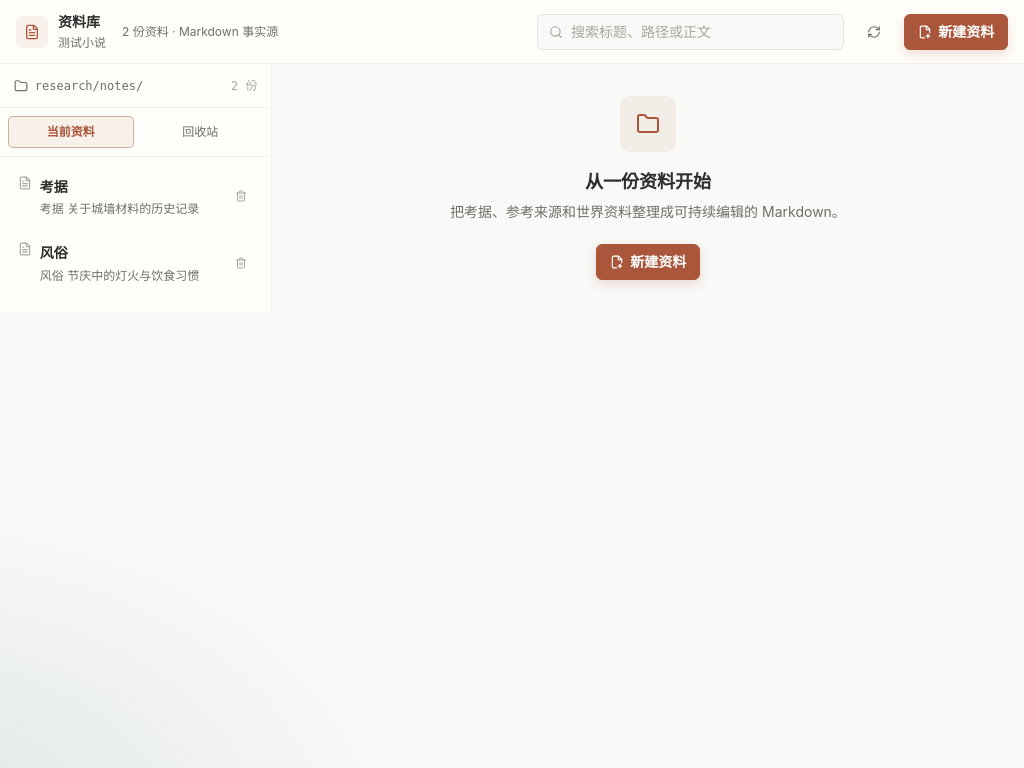
Scenario: ResearchLibrary › 搜索会匹配 Markdown 正文内容
Expected: the button "考据 考据 关于城墙材料的历史记录" is shown, [18, 174, 220, 219]
Type "城墙材料" into the field with placeholder "搜索标题、路径或正文". click: (701, 32)
box: [571, 21, 832, 42]
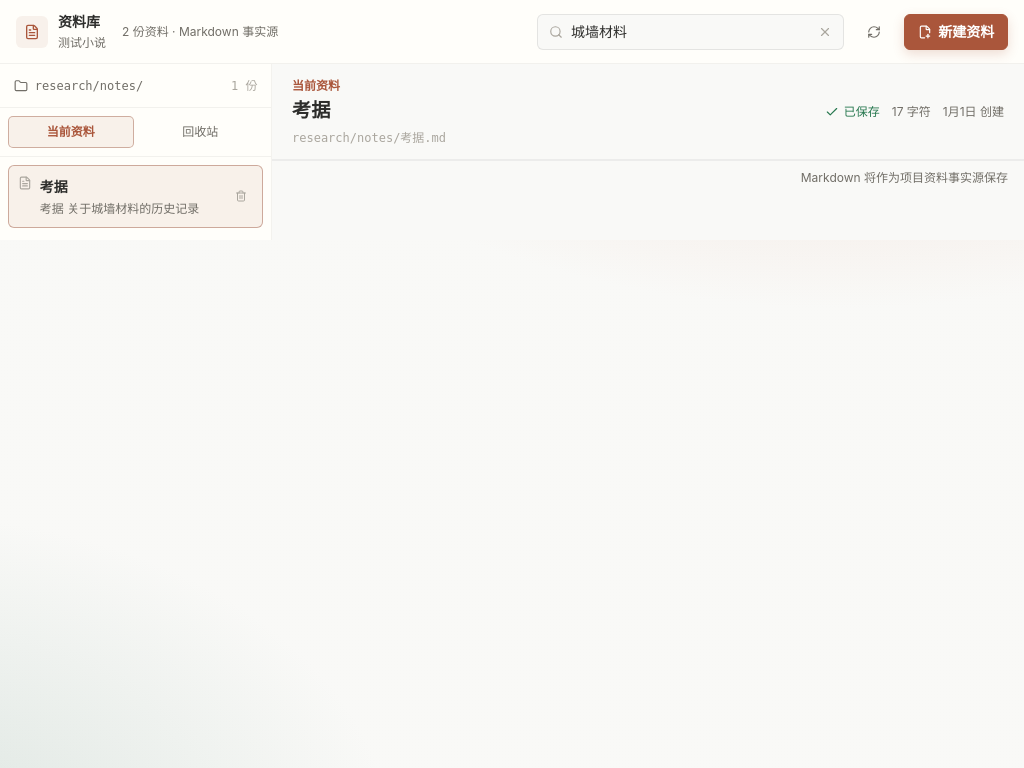
Expected: the button "考据 考据 关于城墙材料的历史记录" is shown, [18, 174, 220, 219]
Expected: the button "风俗" is gone
